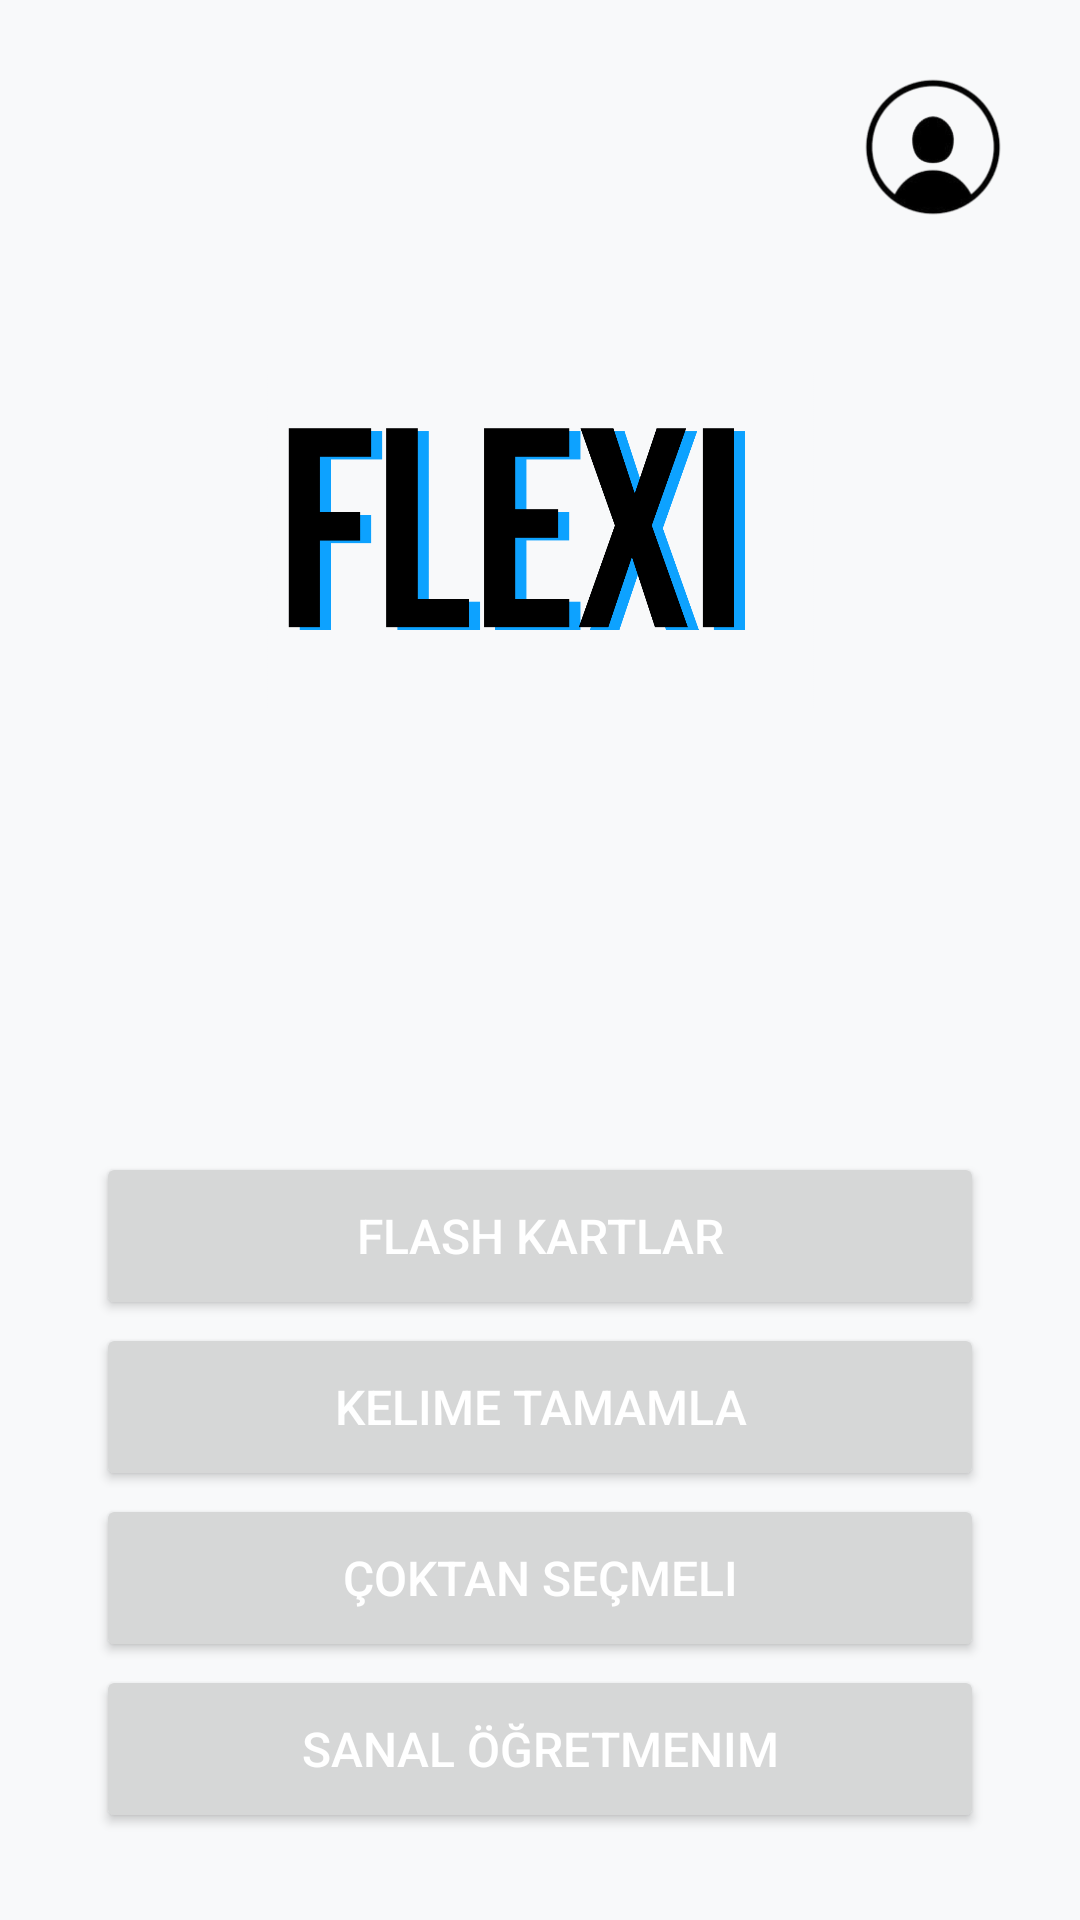

Named icons in this screenshot (1080 x 1920) and their centers, (x=x, y=y):
Profile Button: (x=933, y=147)
